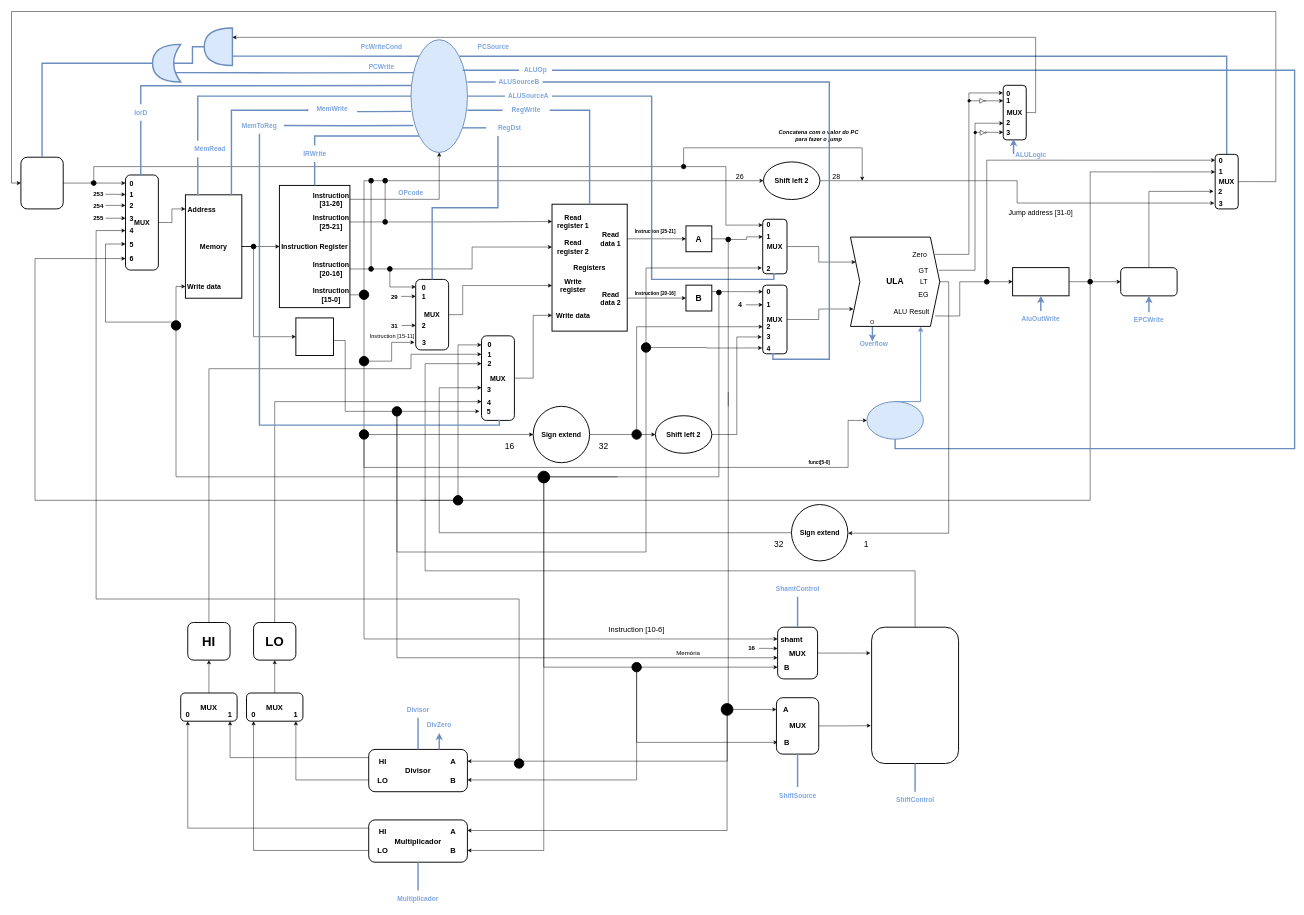
The diagram is 1304 pixels wide and 915 high, and some of its shapes have lost their labels. Each missing label, with the centre of its shape:
ALU Control: (895,420)
ALUOut: (1040,281)
Control: (439,96)
EPC: (1148,281)
Memory data register: (314,336)
PC: (41,183)
Shift block: (915,695)
